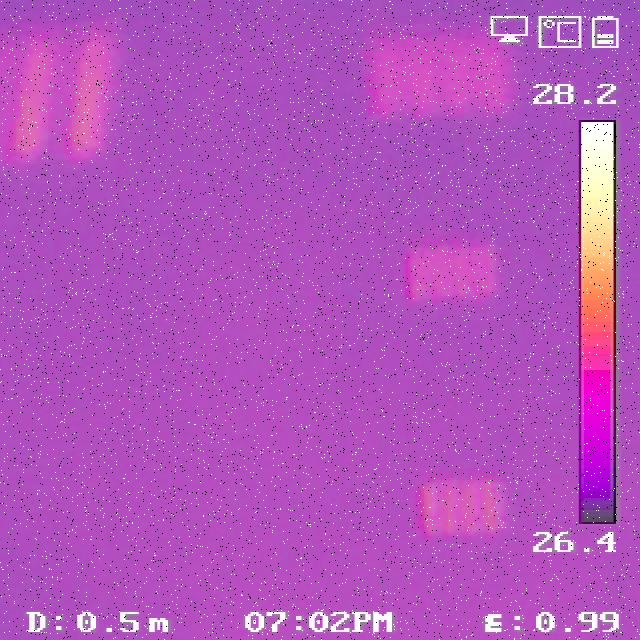Distinguishable 4-bar target: (0, 32, 120, 159)
Indistinguishable 4-bar target: (372, 30, 511, 115), (419, 473, 508, 534), (411, 242, 500, 298)
